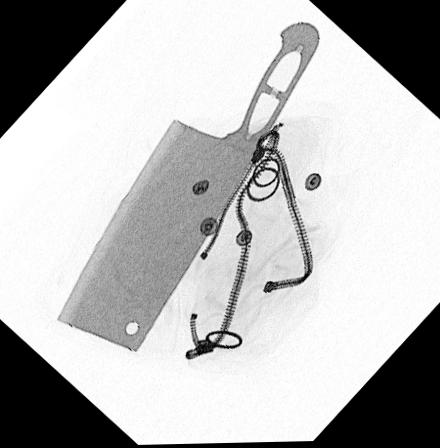Knife: (54, 20, 320, 353)
